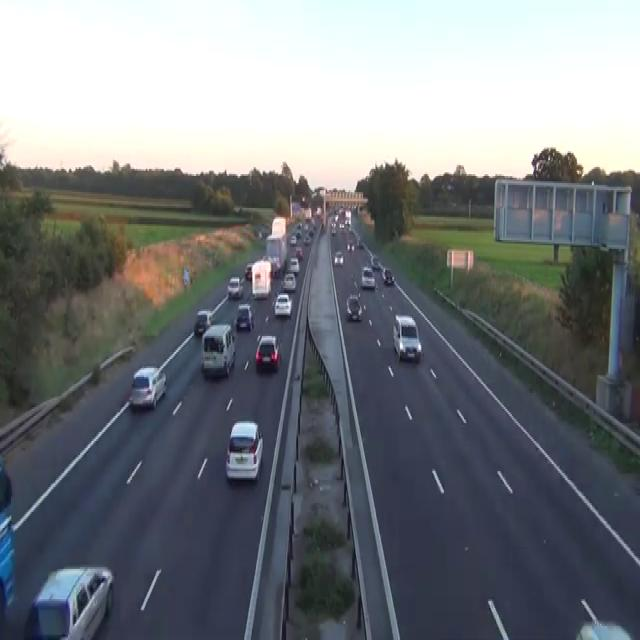Car: (23, 564, 114, 638), (574, 599, 636, 638), (225, 419, 263, 482), (200, 324, 236, 378), (129, 364, 166, 409), (0, 510, 15, 615), (392, 315, 421, 361), (575, 620, 636, 638), (255, 332, 280, 372), (0, 452, 12, 518), (235, 304, 254, 331), (194, 309, 212, 336), (274, 292, 292, 316), (346, 293, 362, 320), (264, 255, 280, 278), (227, 276, 243, 298), (361, 265, 375, 288), (282, 272, 296, 292), (381, 266, 394, 284), (257, 222, 271, 238), (289, 256, 299, 274), (333, 249, 343, 265), (244, 263, 253, 279), (371, 256, 381, 270), (295, 246, 303, 260), (346, 240, 354, 251), (233, 204, 242, 213), (254, 228, 262, 238), (301, 222, 308, 233), (356, 238, 364, 247), (289, 235, 296, 245), (304, 234, 311, 243), (446, 183, 454, 190), (331, 224, 336, 235), (339, 220, 344, 230), (308, 228, 314, 236), (347, 222, 351, 231), (296, 230, 301, 237), (450, 201, 456, 206), (441, 183, 445, 190)
Truck: (265, 215, 287, 276), (251, 258, 271, 298)
